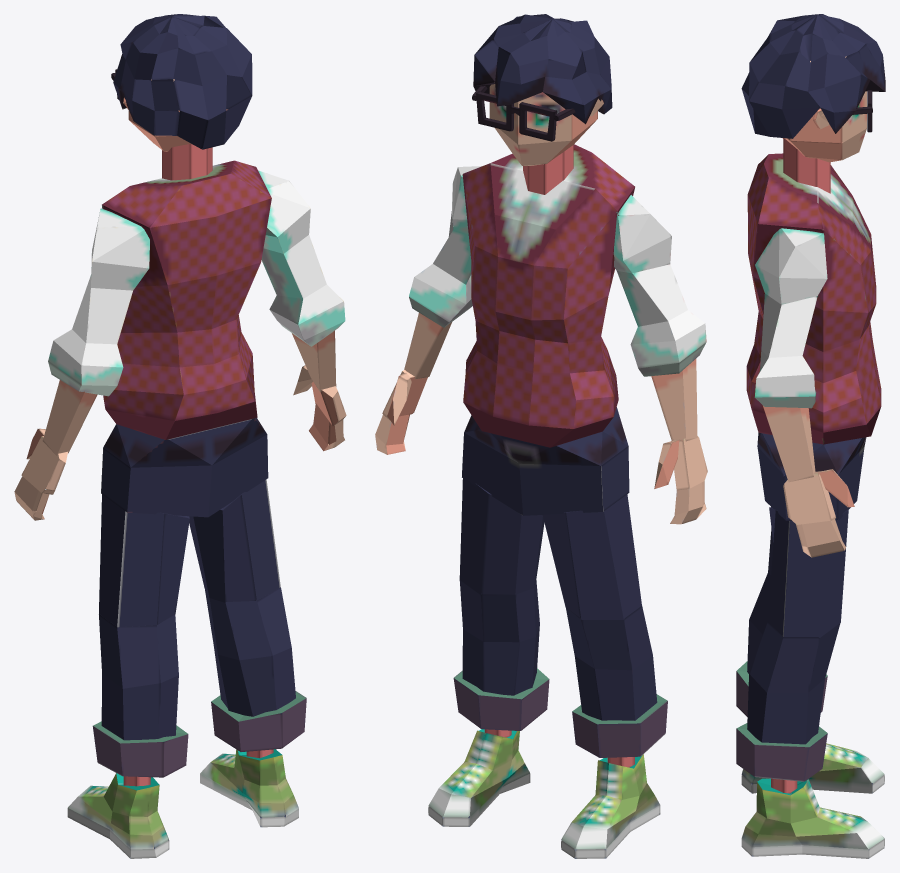
File: char 2.fbx
3 renders of one model, left to right at view 1: azimuth 30°, elevation 25°; view 2: azimuth 150°, elevation 25°; view 3: azimuth 270°, elevation 25°, orthographic.
Visible parts, largest first — view 1: torso, hair, pelvis, shoudler2, thigh1_2, calf1_1, calf1, shoudler1, thigh1, shoe1_2, shoe1, wrap1 (+8 smaller); view 2: torso, pelvis, hair, shoudler2, thigh1_2, calf1_1, calf1, thigh1, shoe1_2, shoe1, shoudler1, face stare (+12 smaller); view 3: torso, hair, shoudler1, calf1, shoe1, thigh1, pelvis, wrap1, shoe1_2, wrist2_1, face stare, palm 2_1 (+6 smaller).
Boxes of the visible parts, x1,y1,x2,y2 form: torso: (102, 160, 271, 439); hair: (113, 14, 252, 149); pelvis: (101, 418, 268, 517); shoudler2: (48, 208, 149, 396); thigh1_2: (99, 494, 189, 627); calf1_1: (99, 614, 178, 742); calf1: (205, 587, 295, 716); shoudler1: (258, 170, 345, 346); thigh1: (189, 479, 280, 602); shoe1_2: (67, 773, 169, 858); shoe1: (200, 749, 298, 827); wrap1: (211, 691, 306, 751); torso: (462, 144, 634, 447); pelvis: (462, 407, 629, 515); hair: (473, 14, 612, 124); shoudler2: (613, 195, 706, 376); thigh1_2: (542, 494, 641, 619); calf1_1: (565, 606, 657, 720); calf1: (459, 580, 539, 695); thigh1: (459, 478, 544, 595); shoe1_2: (561, 754, 660, 858); shoe1: (428, 729, 530, 826); shoudler1: (409, 166, 482, 327); face stare: (489, 82, 597, 165); torso: (746, 153, 881, 444); hair: (741, 14, 885, 138); shoudler1: (754, 228, 827, 408); calf1: (747, 622, 840, 744); shoe1: (741, 778, 884, 858); thigh1: (768, 507, 848, 637); pelvis: (757, 432, 866, 520); wrap1: (736, 723, 827, 781); shoe1_2: (741, 743, 884, 793); wrist2_1: (763, 406, 815, 482); face stare: (782, 56, 866, 162); palm 2_1: (783, 471, 835, 524).
Size of the model in its own units: 215 by 525 by 88.99.
Materials: 1 (1 with a texture image).
